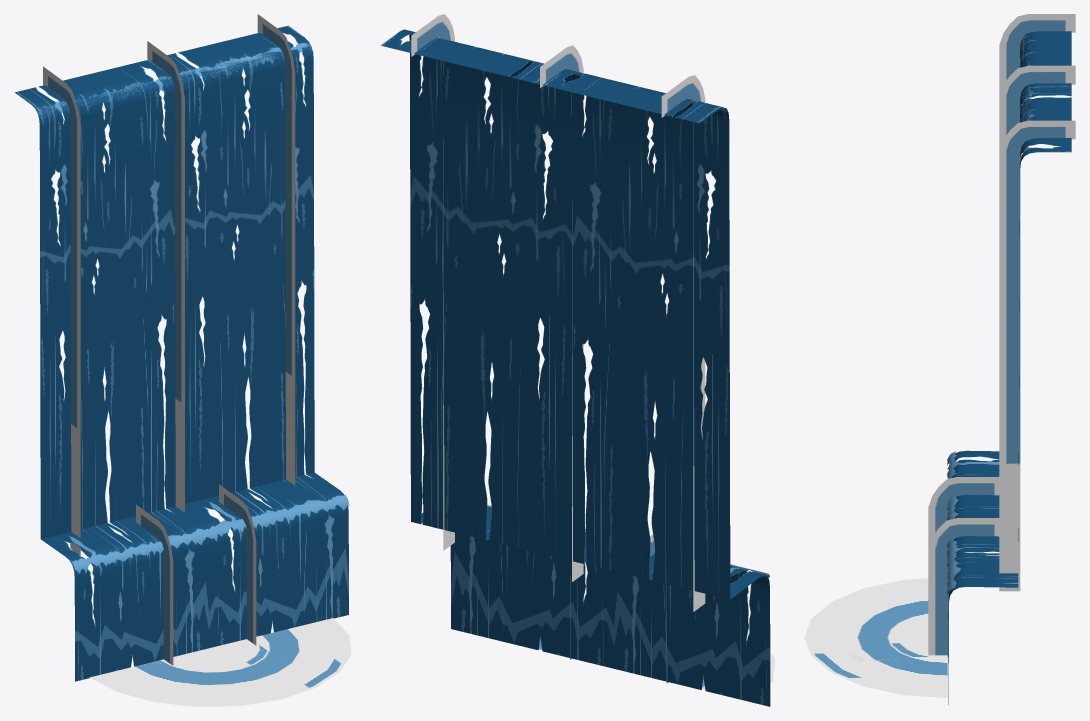
File: cascada.fbx
3 views of the same model, side by side, from view 1: azimuth 30°, elevation 25°; view 2: azimuth 150°, elevation 25°; view 3: azimuth 270°, elevation 25° (orthographic). The views are drawn at different scales.
Visible parts, largest first — view 1: Box033, pCylinder2, pPlane5, pPlane3, pPlane4, BordeCascada2, pPlane6, pPlane7, BordeCascada1, BordeCascada003; view 2: Box033, pPlane3, pPlane5, pPlane4; view 3: pCylinder2, pPlane5, Box033, pPlane7, pPlane4, pPlane3, pPlane6, BordeCascada2.
Boxes of the visible parts, x1=… form: Box033: x1=15, y1=25, x2=348, y2=681; pCylinder2: x1=89, y1=618, x2=351, y2=706; pPlane5: x1=257, y1=14, x2=295, y2=485; pPlane3: x1=43, y1=66, x2=80, y2=555; pPlane4: x1=147, y1=41, x2=184, y2=512; BordeCascada2: x1=72, y1=495, x2=348, y2=573; pPlane6: x1=136, y1=504, x2=173, y2=665; pPlane7: x1=219, y1=484, x2=256, y2=645; BordeCascada1: x1=36, y1=43, x2=312, y2=120; BordeCascada003: x1=71, y1=494, x2=349, y2=572; Box033: x1=381, y1=29, x2=770, y2=706; pPlane3: x1=661, y1=75, x2=705, y2=611; pPlane5: x1=411, y1=14, x2=454, y2=550; pPlane4: x1=540, y1=45, x2=583, y2=581; pCylinder2: x1=804, y1=578, x2=947, y2=697; pPlane5: x1=999, y1=120, x2=1075, y2=591; Box033: x1=948, y1=31, x2=1071, y2=704; pPlane7: x1=928, y1=518, x2=999, y2=657; pPlane4: x1=999, y1=65, x2=1075, y2=150; pPlane3: x1=999, y1=14, x2=1075, y2=95; pPlane6: x1=928, y1=477, x2=999, y2=547; BordeCascada2: x1=947, y1=452, x2=960, y2=593.
Size of the model in its own units: 1278 by 2512 by 1077.
